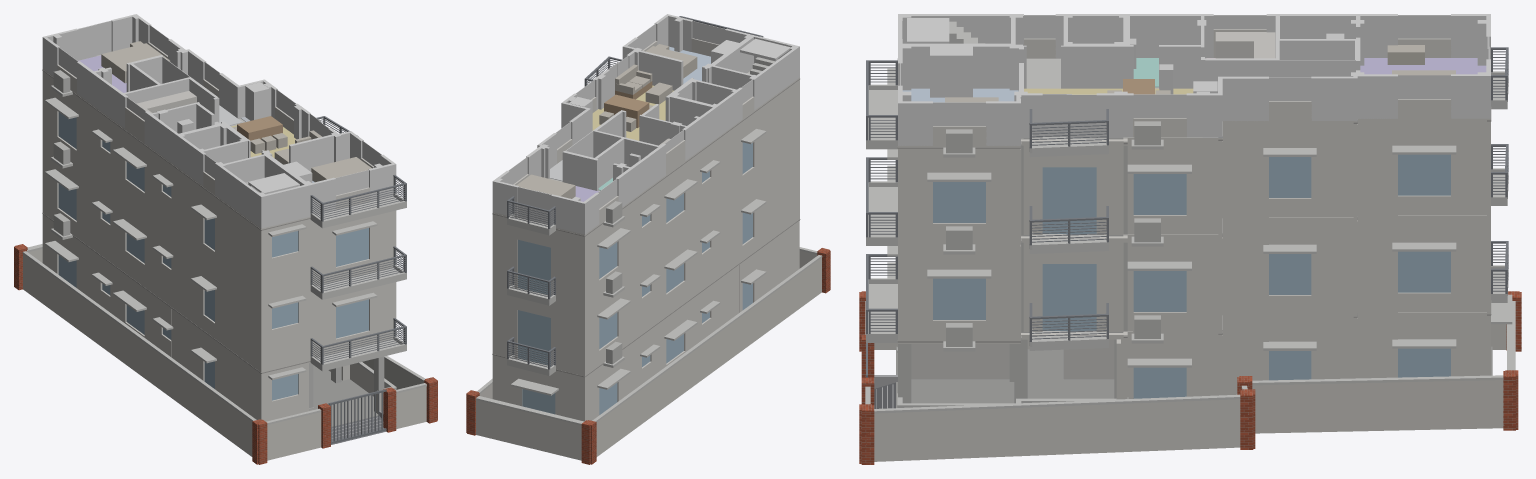
3 views of the same model, side by side, from view 1: azimuth 30°, elevation 25°; view 2: azimuth 150°, elevation 25°; view 3: azimuth 270°, elevation 25° (orthographic). The views are drawn at different scales.
Parts seen in each view (by area): view 1: BOUNDARY#214, 1ST_FLOOR/wall#299, 2ND_FLOOR/wall#606, 2ND_FLOOR/wall#611, 1ST_FLOOR/wall#304, 1ST_FLOOR/wall#292, 2ND_FLOOR/wall#599, GROUND_FLOOR/core_wall#102, BOUNDARY#172, PLINTH#0, 1ST_FLOOR/wall#319, 2ND_FLOOR/wall#626 (+83 smaller); view 2: BOUNDARY#214, BOUNDARY#210, 1ST_FLOOR/wall#299, 2ND_FLOOR/wall#606, 2ND_FLOOR/wall#654, 1ST_FLOOR/wall#347, 1ST_FLOOR/wall#304, 2ND_FLOOR/wall#611, GROUND_FLOOR/core_wall#102, 1ST_FLOOR/wall#350, 2ND_FLOOR/wall#657, 3RD_FLOOR/wall#922 (+71 smaller); view 3: BOUNDARY#198, BOUNDARY#206, 1ST_FLOOR/wall#341, 2ND_FLOOR/wall#648, 2ND_FLOOR/wall#653, 1ST_FLOOR/wall#346, 2ND_FLOOR/wall#658, 1ST_FLOOR/wall#351, GROUND_FLOOR/stair#42, 2ND_FLOOR/wall#663, 1ST_FLOOR/wall#356, GROUND_FLOOR/flat_wall#77 (+114 smaller).
Boxes of the visible parts, box(x1,y1,x2,y2) form: BOUNDARY#214: box(23, 254, 252, 456); 1ST_FLOOR/wall#299: box(215, 269, 259, 370); 2ND_FLOOR/wall#606: box(215, 198, 259, 298); 2ND_FLOOR/wall#611: box(171, 166, 204, 257); 1ST_FLOOR/wall#304: box(171, 237, 204, 328); 1ST_FLOOR/wall#292: box(298, 291, 335, 362); 2ND_FLOOR/wall#599: box(298, 220, 335, 290); GROUND_FLOOR/core_wall#102: box(218, 343, 261, 419); BOUNDARY#172: box(267, 412, 321, 460); PLINTH#0: box(313, 379, 378, 426); 1ST_FLOOR/wall#319: box(76, 168, 102, 253); 2ND_FLOOR/wall#626: box(76, 97, 102, 182); BOUNDARY#214: box(596, 258, 821, 456); BOUNDARY#210: box(476, 400, 581, 460); 1ST_FLOOR/wall#299: box(753, 152, 798, 250); 2ND_FLOOR/wall#606: box(753, 82, 798, 180); 2ND_FLOOR/wall#654: box(551, 231, 586, 304); 1ST_FLOOR/wall#347: box(551, 301, 586, 375); 1ST_FLOOR/wall#304: box(710, 192, 742, 282); 2ND_FLOOR/wall#611: box(710, 122, 742, 211); GROUND_FLOOR/core_wall#102: box(757, 221, 799, 299); 1ST_FLOOR/wall#350: box(492, 285, 517, 358); 2ND_FLOOR/wall#657: box(492, 215, 517, 288); 3RD_FLOOR/wall#922: box(751, 47, 798, 110); BOUNDARY#198: box(874, 399, 1240, 461); BOUNDARY#206: box(1252, 380, 1503, 433); 1ST_FLOOR/wall#341: box(1222, 222, 1268, 315); 2ND_FLOOR/wall#648: box(1222, 125, 1268, 218); 2ND_FLOOR/wall#653: box(1311, 125, 1353, 217); 1ST_FLOOR/wall#346: box(1311, 222, 1353, 314); 2ND_FLOOR/wall#658: box(1357, 123, 1397, 215); 1ST_FLOOR/wall#351: box(1357, 220, 1397, 312); GROUND_FLOOR/stair#42: box(911, 344, 1009, 379); 2ND_FLOOR/wall#663: box(1451, 123, 1486, 215); 1ST_FLOOR/wall#356: box(1451, 220, 1486, 312); GROUND_FLOOR/flat_wall#77: box(1222, 319, 1268, 395).
Size of the model in its own units: 8.06 by 10.8 by 18.89.
1 material, 1 textured.
